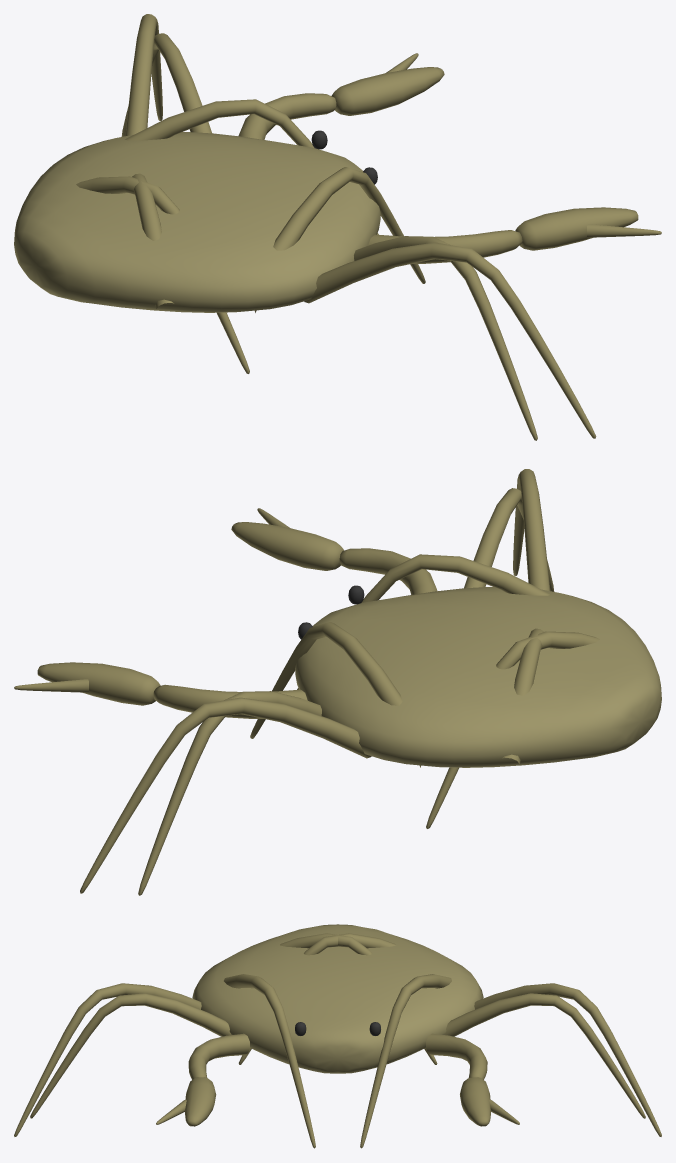
File: kelp_crab.glb
The picture shows the model from 3 angles, top to bottom: view 1: azimuth 30°, elevation 25°; view 2: azimuth 150°, elevation 25°; view 3: azimuth 270°, elevation 25°; orthographic projection. The views are drawn at different scales.
Parts seen in each view (by area): view 1: kelp_crab; view 2: kelp_crab; view 3: kelp_crab.
Boxes of the visible parts, x1,y1,x2,y2 form: kelp_crab: (14, 14, 661, 440); kelp_crab: (14, 469, 661, 895); kelp_crab: (14, 924, 661, 1148).
Bounding box in the file's own units: 0.1114 × 0.0346 × 0.1663.
